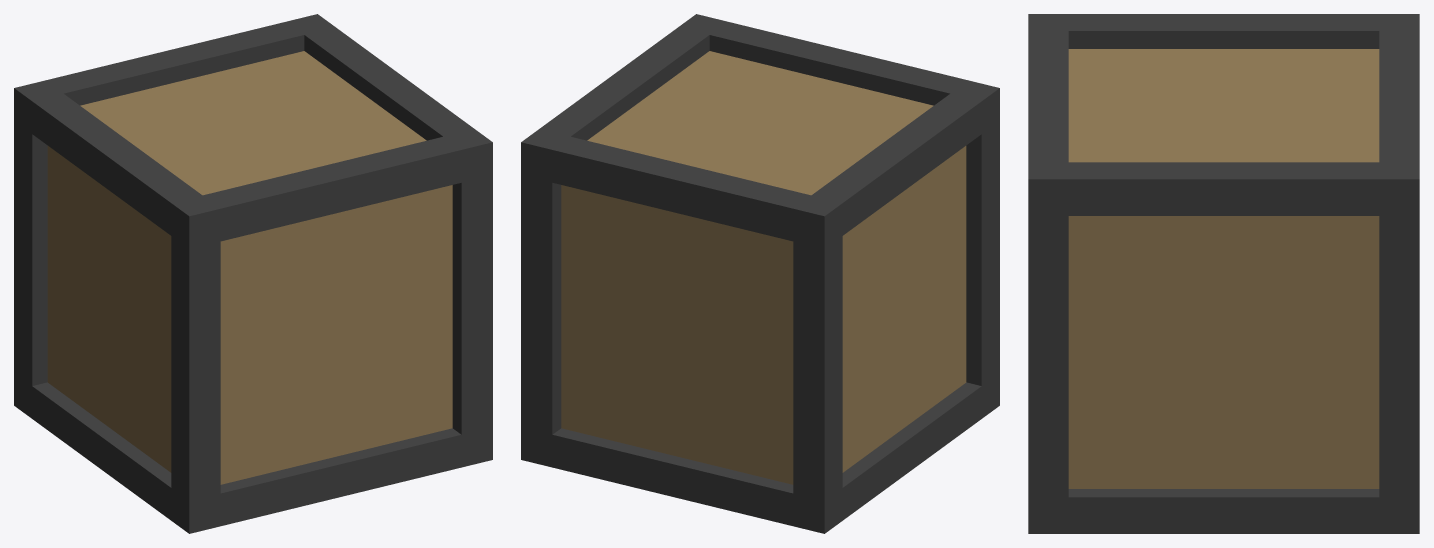
File: Small Box Type 1 destruction.fbx
3 views of the same model, side by side, from view 1: azimuth 30°, elevation 25°; view 2: azimuth 150°, elevation 25°; view 3: azimuth 270°, elevation 25° (orthographic). The views are drawn at different scales.
Visible parts, largest first — view 1: Cube.300, Cube.299, Cube.294, Cube.297, Cube.293, Cube.295, Cube.298, Cube.296; view 2: Cube.293, Cube.298, Cube.295, Cube.296, Cube.300, Cube.294, Cube.299, Cube.297; view 3: Cube.299, Cube.298, Cube.297, Cube.296, Cube.300, Cube.293, Cube.295, Cube.294.
Part boxes in pixels (<box>): Cube.300: <box>117,131,332,484</box>; Cube.299: <box>254,102,452,457</box>; Cube.294: <box>101,144,340,533</box>; Cube.297: <box>323,78,492,496</box>; Cube.293: <box>47,80,252,432</box>; Cube.295: <box>14,51,183,469</box>; Cube.298: <box>184,51,373,130</box>; Cube.296: <box>166,14,404,101</box>; Cube.293: <box>681,131,896,484</box>; Cube.298: <box>561,102,759,457</box>; Cube.295: <box>673,144,912,533</box>; Cube.296: <box>521,78,690,496</box>; Cube.300: <box>761,80,966,432</box>; Cube.294: <box>830,51,999,469</box>; Cube.299: <box>640,51,829,130</box>; Cube.297: <box>609,14,847,101</box>; Cube.299: <box>1068,114,1223,488</box>; Cube.298: <box>1224,114,1379,488</box>; Cube.297: <box>1028,96,1223,533</box>; Cube.296: <box>1224,96,1419,533</box>; Cube.300: <box>1068,49,1223,114</box>; Cube.293: <box>1224,49,1379,114</box>; Cube.295: <box>1224,14,1419,96</box>; Cube.294: <box>1028,14,1223,96</box>.
Bounding box in the file's own units: 0.6692 × 0.6692 × 0.6692.
